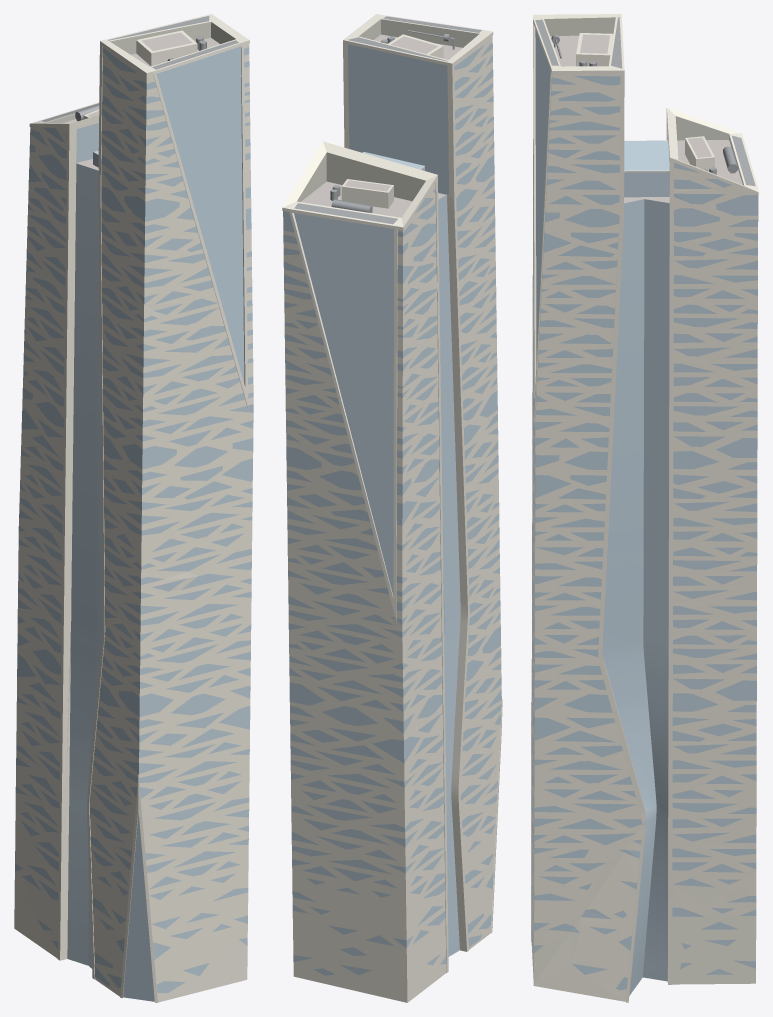
3 renders of one model, left to right at view 1: azimuth 30°, elevation 25°; view 2: azimuth 150°, elevation 25°; view 3: azimuth 270°, elevation 25°, orthographic. The views are drawn at different scales.
Parts seen in each view (by area): view 1: 70030076201848675lod; view 2: 70030076201848675lod; view 3: 70030076201848675lod.
Boxes of the visible parts, left/top/right/bottom form: 70030076201848675lod: left=14, top=14, right=253, bottom=1002; 70030076201848675lod: left=282, top=14, right=502, bottom=1002; 70030076201848675lod: left=531, top=14, right=758, bottom=1002.
Size of the model in its own units: 51.89 by 293 by 65.57.
1 material, 1 textured.
